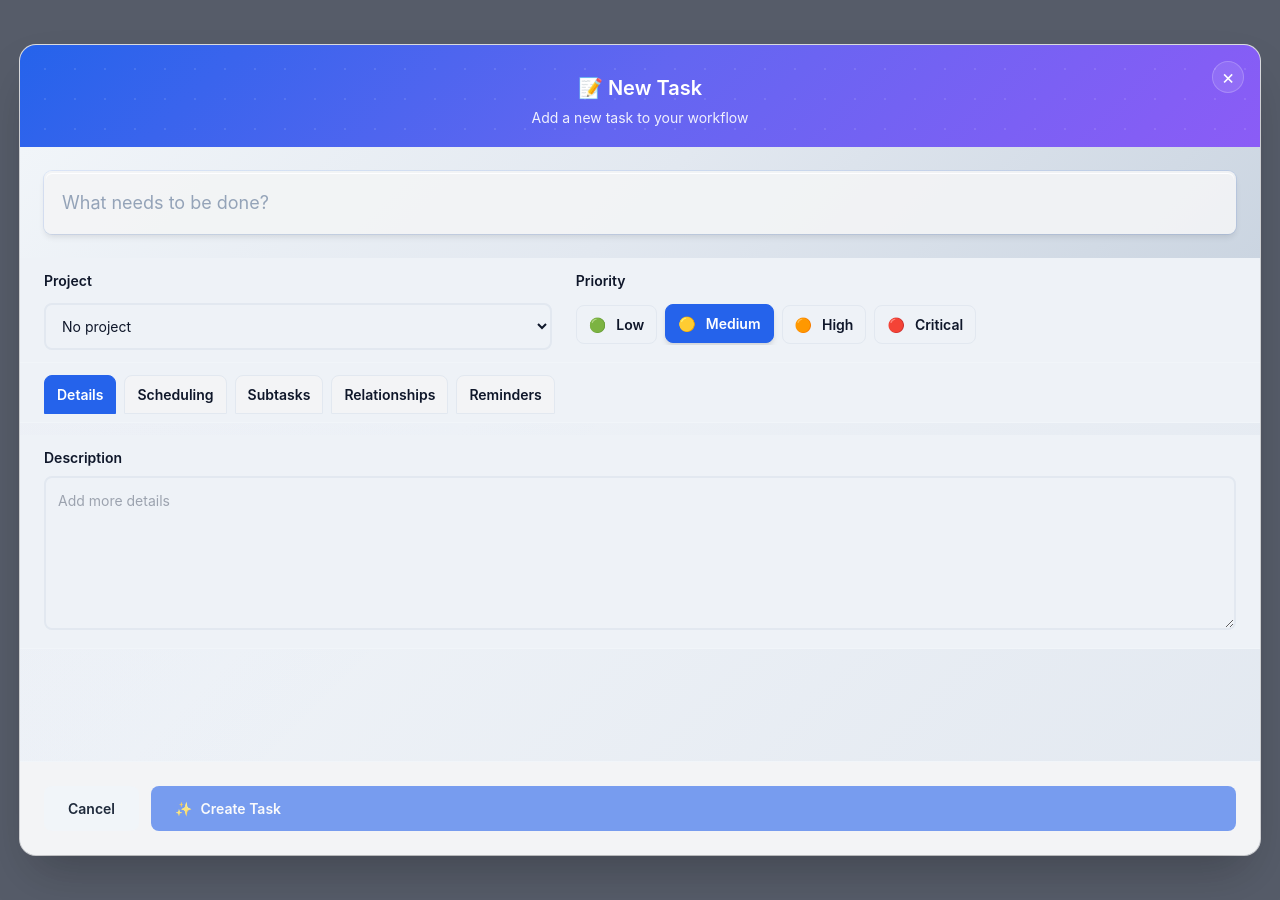
Test: TaskForm › handles dependency management
Click the button "Relationships".
click(390, 394)  # box [331,375,448,414]
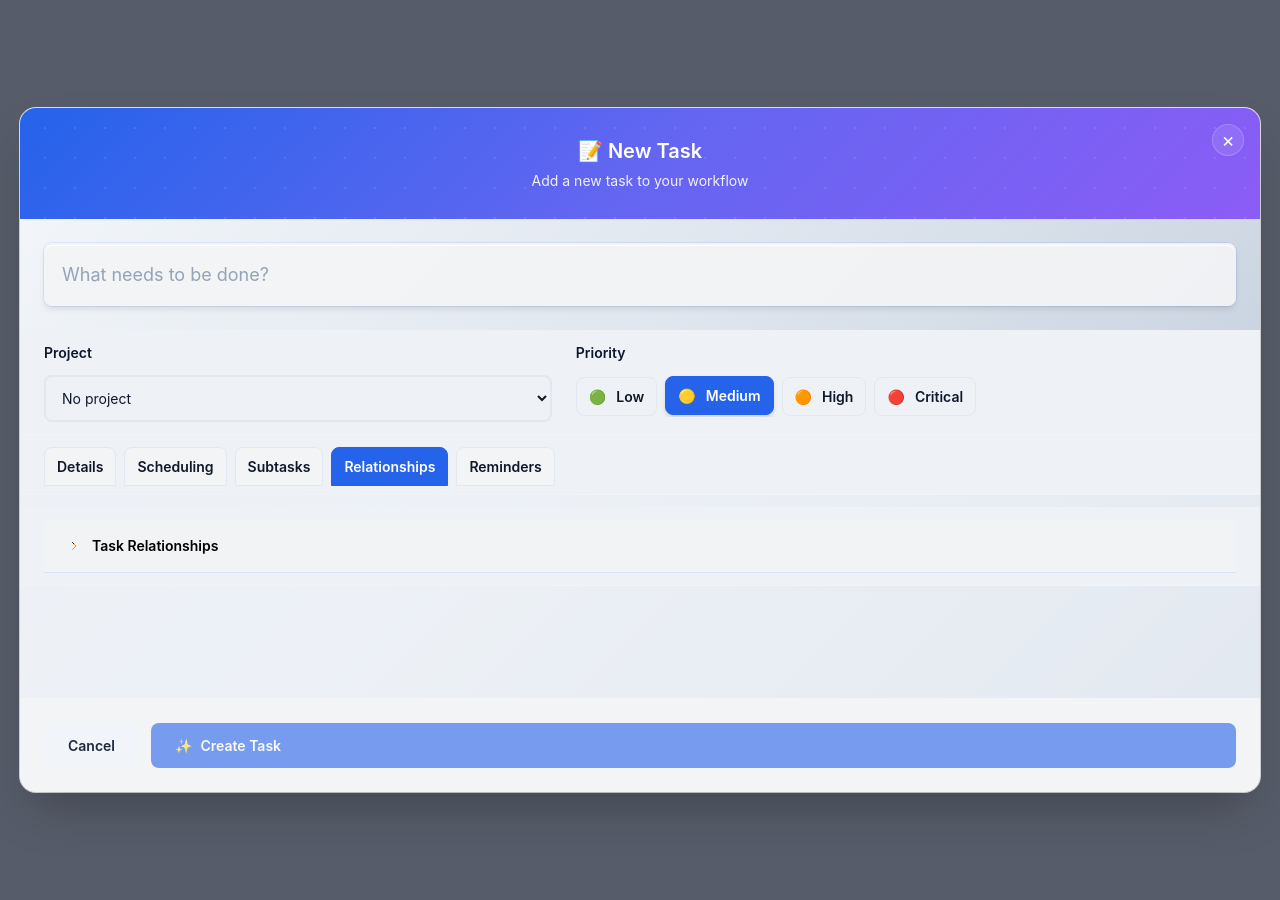
Click the heading "Task Relationships".
click(155, 546)  # box [92,537,218,554]
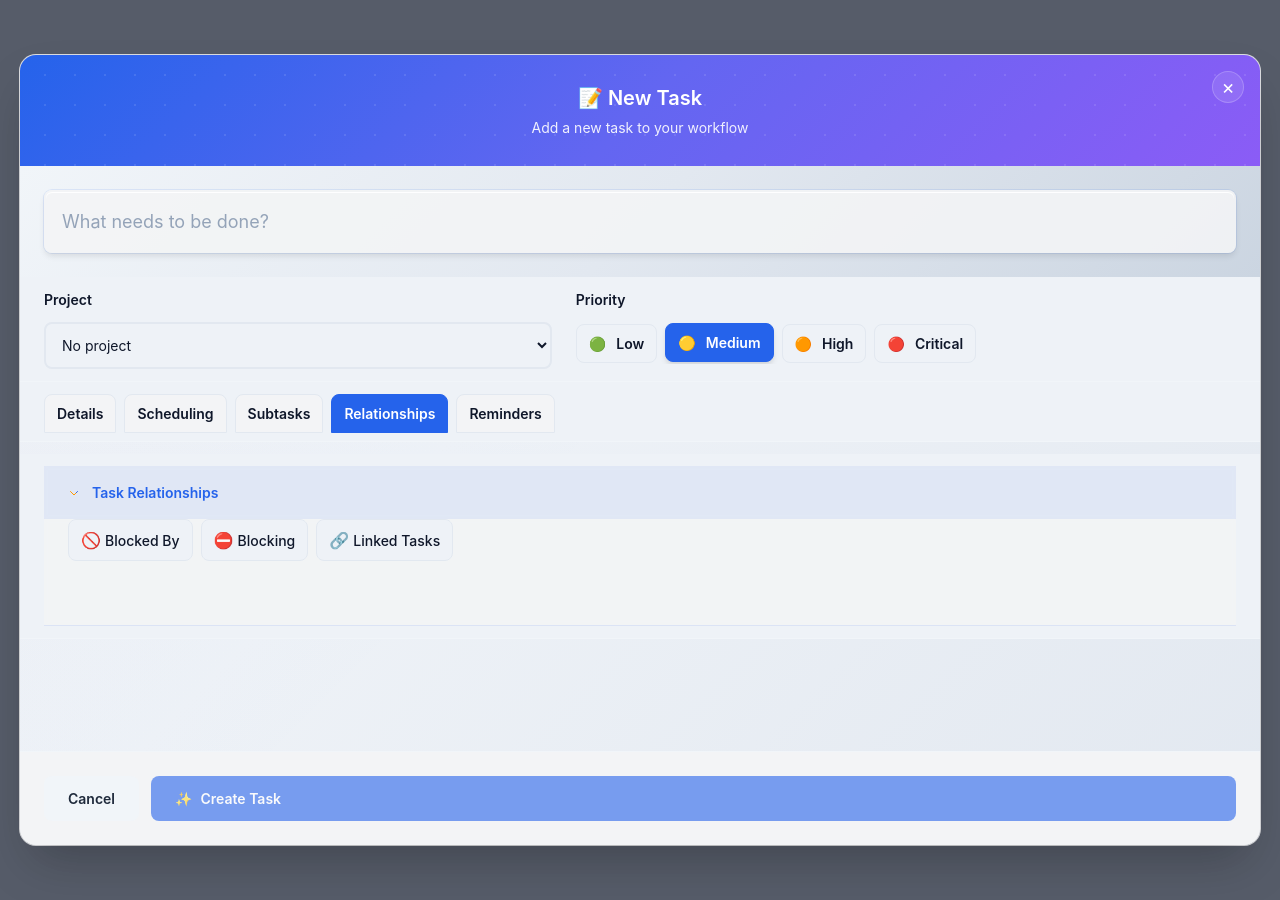
Result: the button labelled "🚫 Blocked By" is shown at [68,519,193,561]
